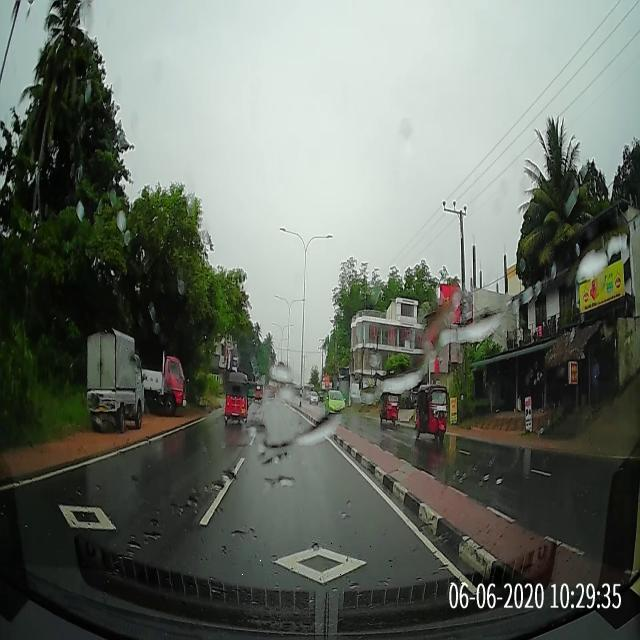diamond: (170, 543, 470, 584)
